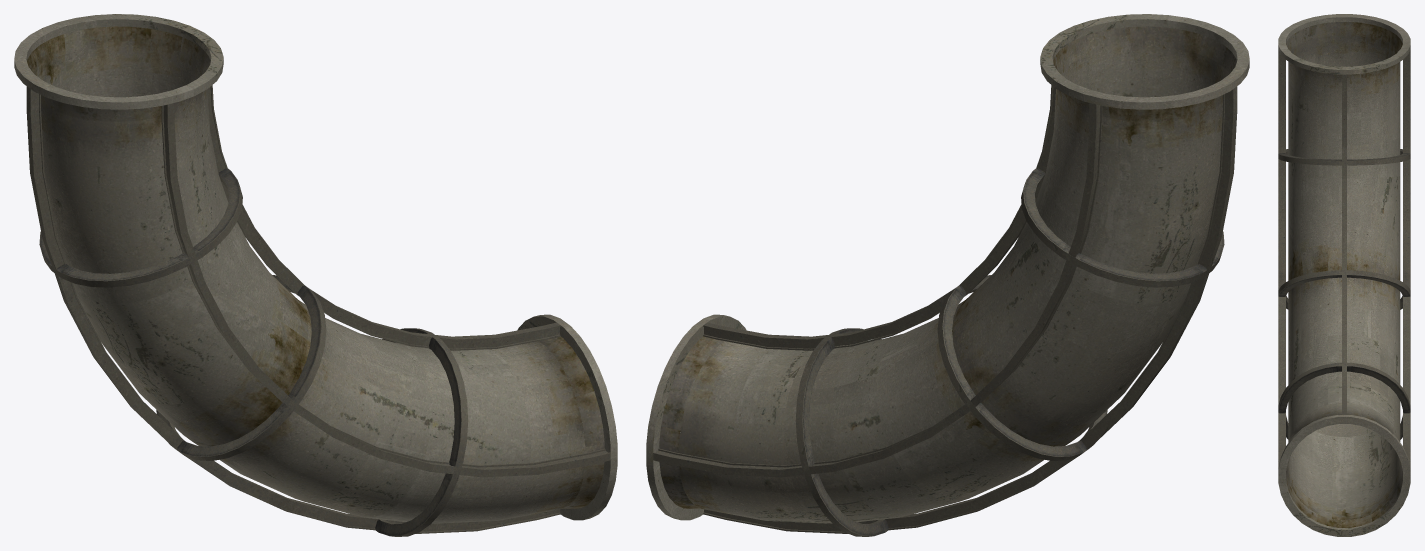
File: tube_paint_90bend_b.glb
3 views of the same model, side by side, from view 1: azimuth 30°, elevation 25°; view 2: azimuth 150°, elevation 25°; view 3: azimuth 270°, elevation 25° (orthographic). The views are drawn at different scales.
Parts seen in each view (by area): view 1: tube_paint_90bend_b; view 2: tube_paint_90bend_b; view 3: tube_paint_90bend_b.
Part boxes in pixels (bbox=[...]): tube_paint_90bend_b: bbox=[14, 14, 617, 536]; tube_paint_90bend_b: bbox=[646, 14, 1249, 536]; tube_paint_90bend_b: bbox=[1278, 14, 1410, 536].
Bounding box in the file's own units: 5.86 × 5.86 × 1.97.
Materials: 1 (1 with a texture image).
